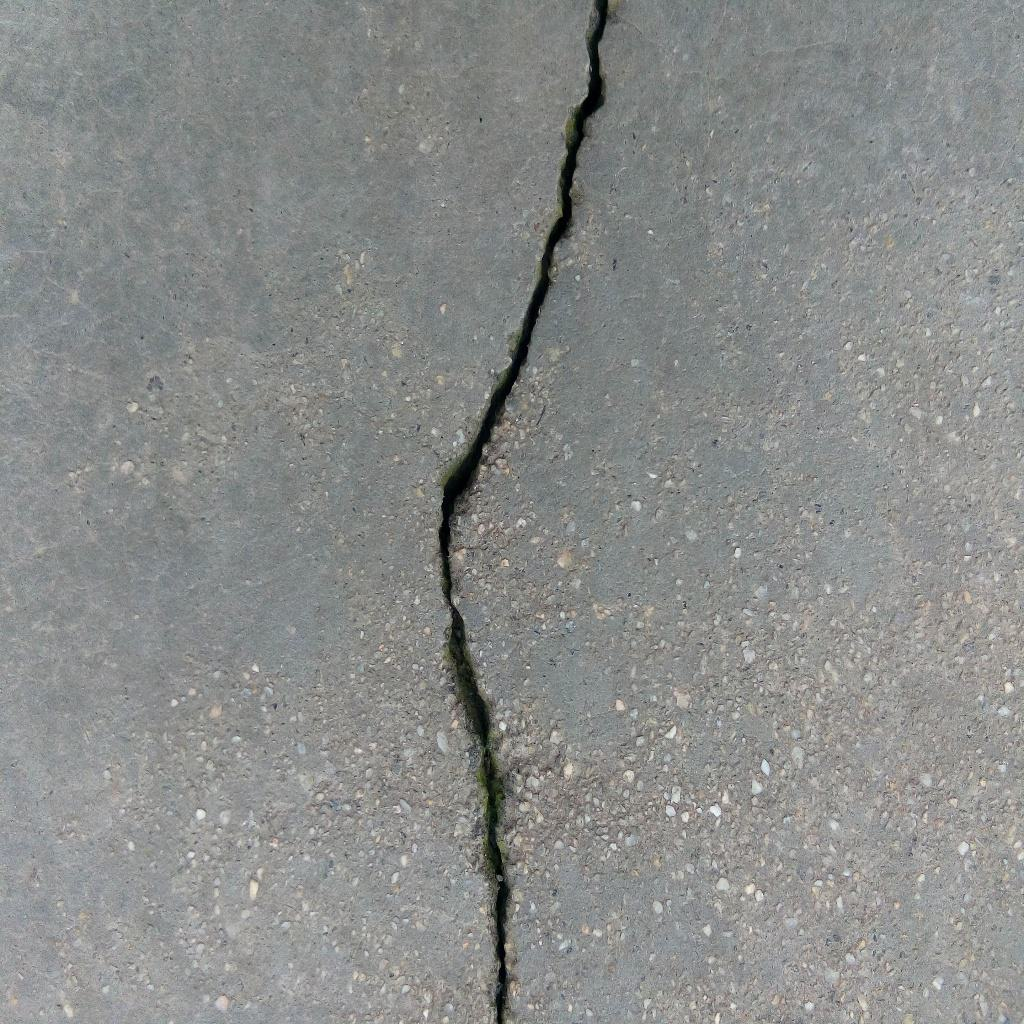Crack: (436, 1, 609, 1024)
